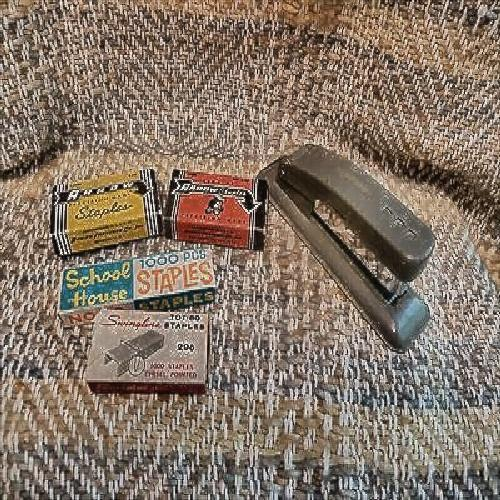stapler: (276, 147, 436, 340)
